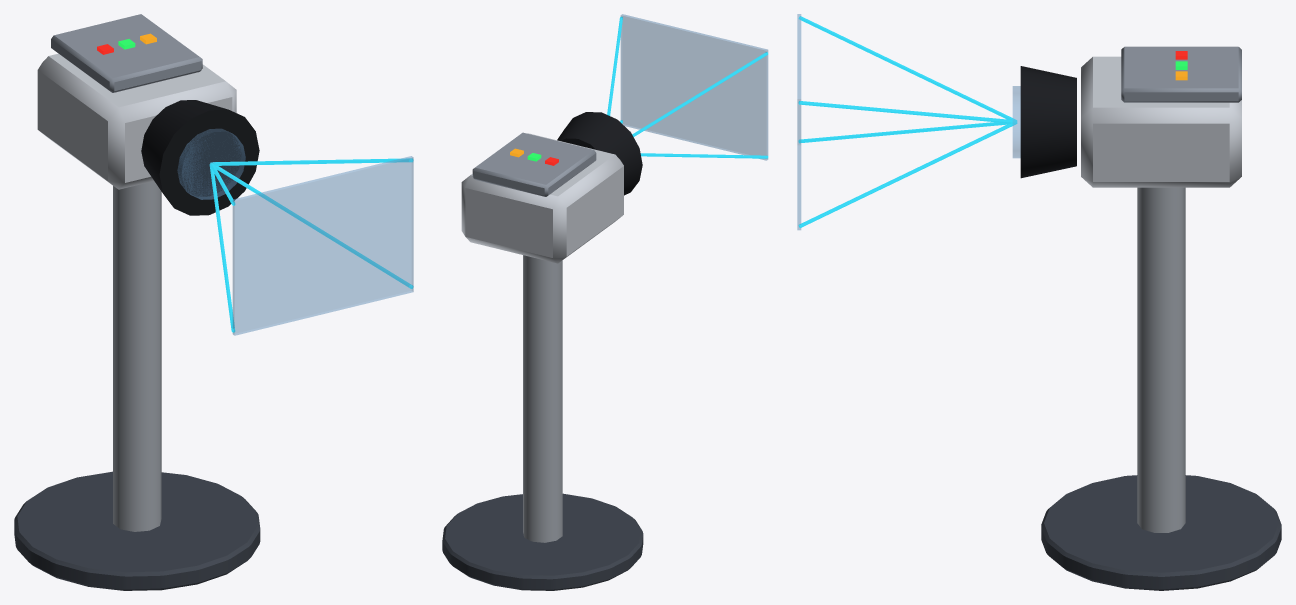
Rendered from holo_briefing_projector.glb.
The picture shows the model from 3 angles, left to right: view 1: azimuth 30°, elevation 25°; view 2: azimuth 150°, elevation 25°; view 3: azimuth 270°, elevation 25°; orthographic projection. The views are drawn at different scales.
Parts seen in each view (by area): view 1: holo_briefing_projector; view 2: holo_briefing_projector; view 3: holo_briefing_projector.
Part boxes in pixels (x1,y1,x2,y2): holo_briefing_projector: (14,14,413,590); holo_briefing_projector: (442,14,768,590); holo_briefing_projector: (797,14,1281,590).
Bounding box in the file's own units: 0.5975 × 1.33 × 1.2.
